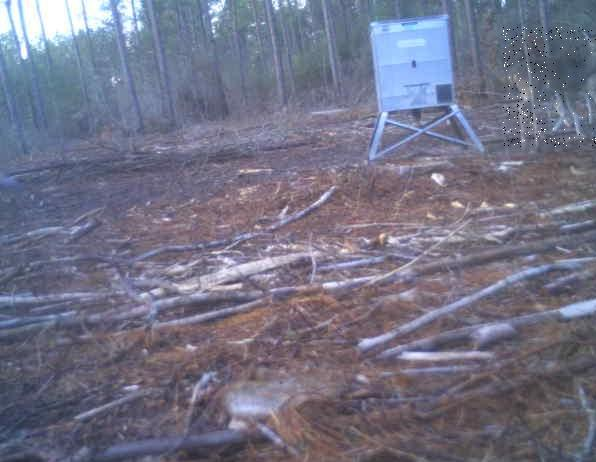Deer: (503, 27, 596, 147), (546, 40, 596, 136)
